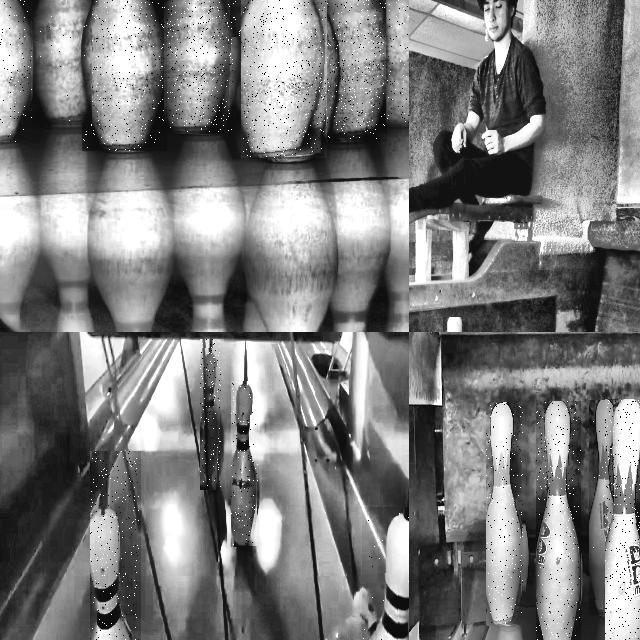bowling-pins: (241, 0, 327, 158), (83, 0, 165, 151), (536, 402, 581, 640), (321, 0, 385, 139), (167, 0, 233, 132), (606, 400, 640, 640), (91, 451, 134, 640), (487, 403, 523, 625), (33, 0, 92, 123), (589, 401, 621, 613), (373, 514, 409, 640), (231, 382, 258, 546), (200, 340, 221, 489), (235, 83, 247, 115)
